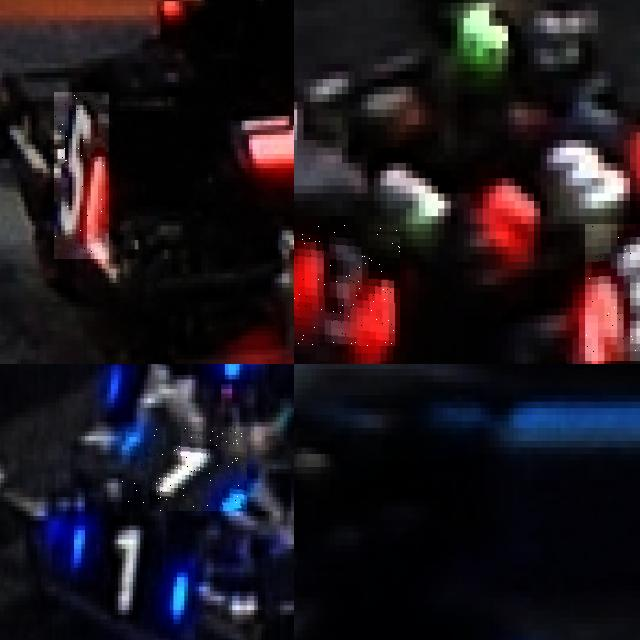B1: (63, 521, 192, 615), (122, 427, 247, 511)
R3: (294, 224, 399, 346), (585, 224, 640, 361)
R5: (54, 92, 109, 259)
